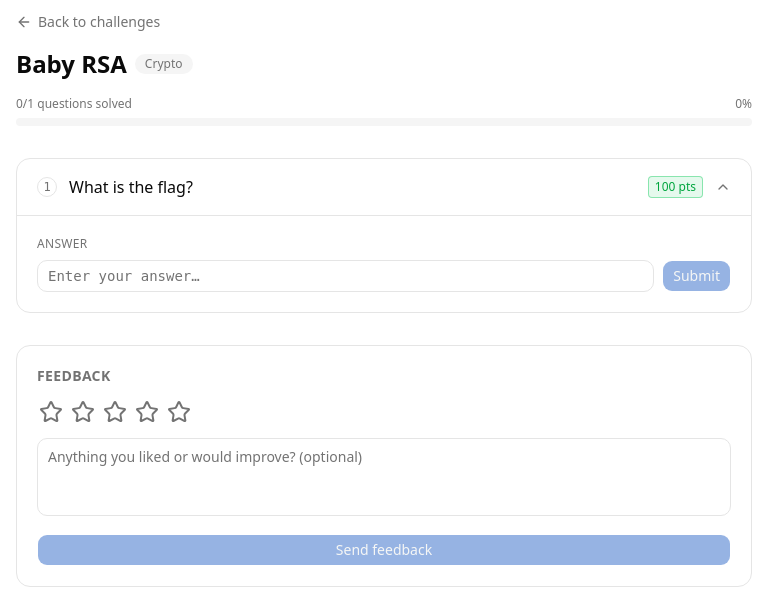
Test: sends a rating and comment once the challenge is completed
This screenshot has width=769, height=604.
Expected: the button "Send feedback" is disabled, [37, 534, 731, 566]
Click the button named "Rate 4 out of 5" at (147, 412), box [133, 398, 161, 426]
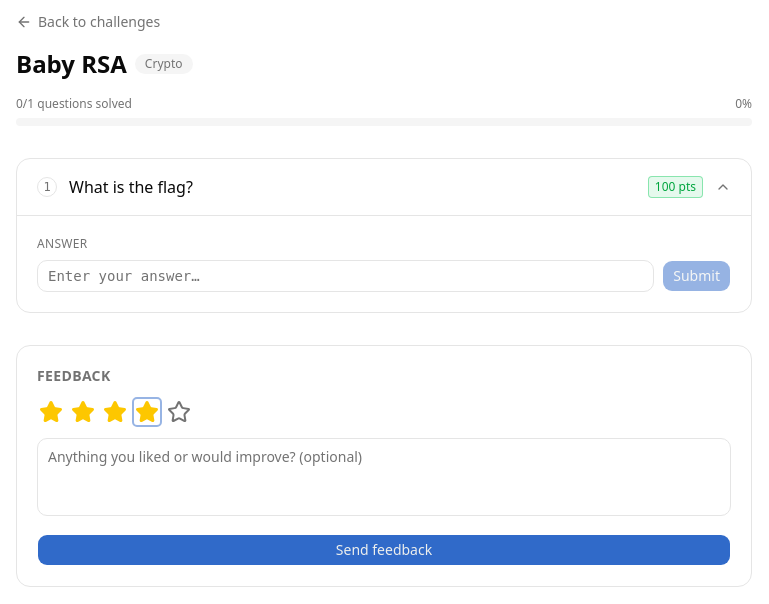
Type "Loved it" into the text box with placeholder "Anything you liked or would improve? (optional)" at (384, 477), box [37, 438, 731, 516]
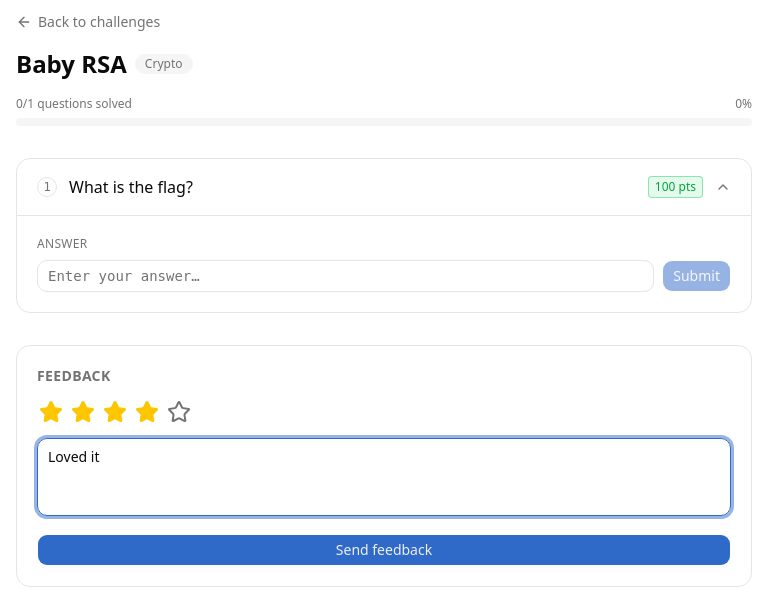
Click the button "Send feedback" at (384, 550), box [37, 534, 731, 566]
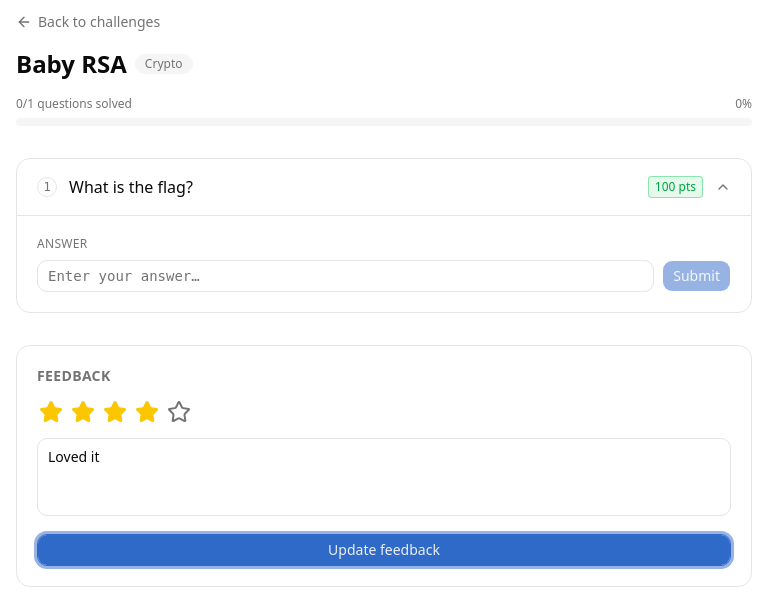
Now the button "Update feedback" is shown, box [37, 534, 731, 566]
